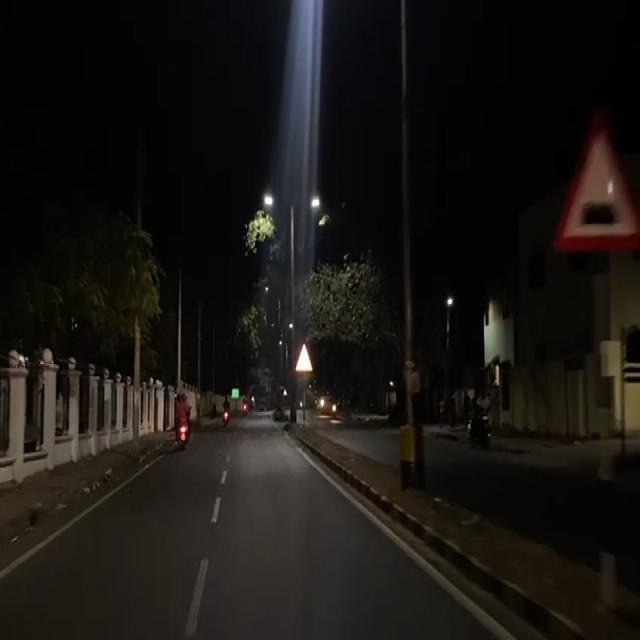bien_nguy_hiem: (546, 115, 640, 266)
